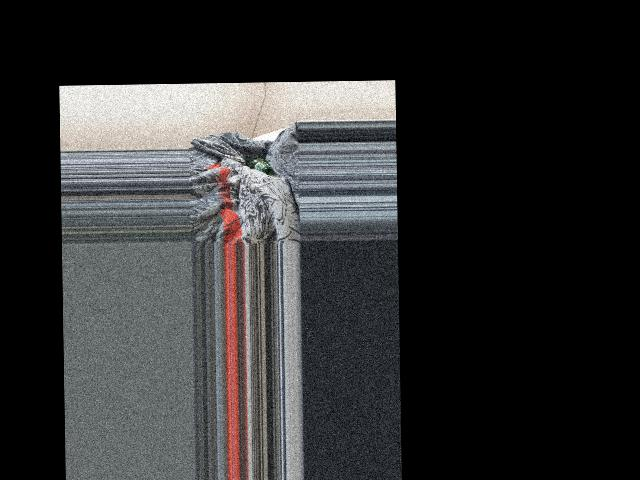beer: (244, 156, 273, 175)
